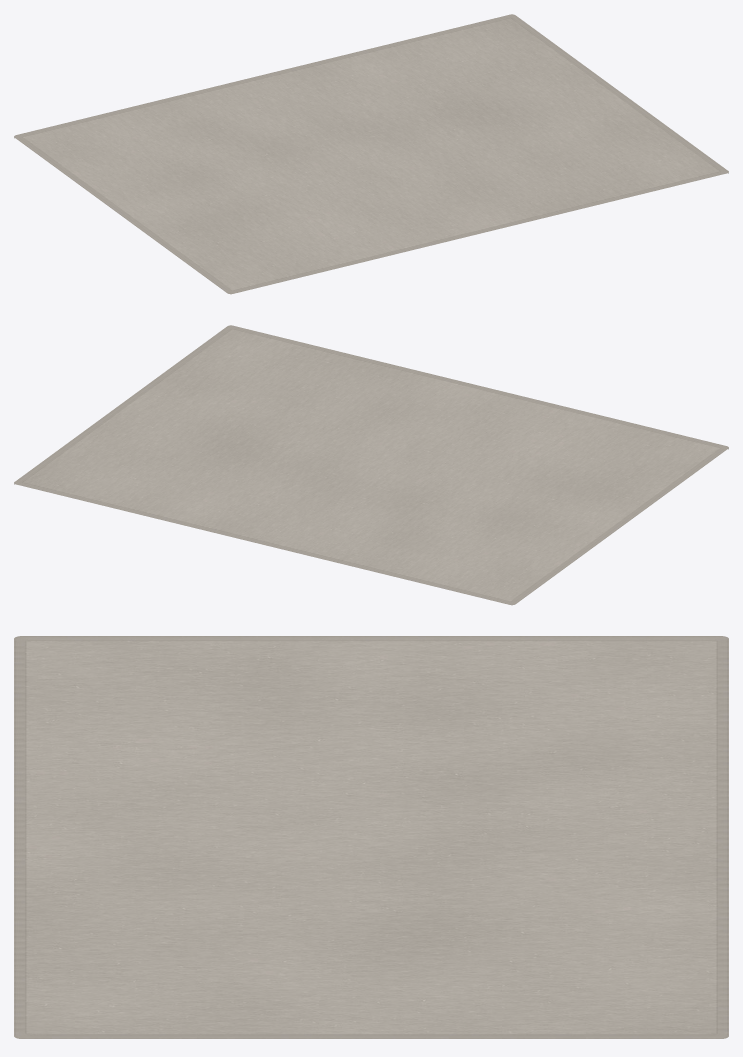
The model's file is beige_M_r90.glb.
3 views of the same model, one above another, from view 1: azimuth 30°, elevation 25°; view 2: azimuth 150°, elevation 25°; view 3: azimuth 270°, elevation 25° (orthographic). The views are drawn at different scales.
Visible parts, largest first — view 1: reliv_beige_M_r90; view 2: reliv_beige_M_r90; view 3: reliv_beige_M_r90.
Part boxes in pixels (x1=…): reliv_beige_M_r90: x1=14, y1=14, x2=728, y2=294; reliv_beige_M_r90: x1=14, y1=325, x2=728, y2=605; reliv_beige_M_r90: x1=14, y1=636, x2=728, y2=1038.
Bounding box in the file's own units: 2 × 0.009 × 1.5.
2 materials, 1 textured.
